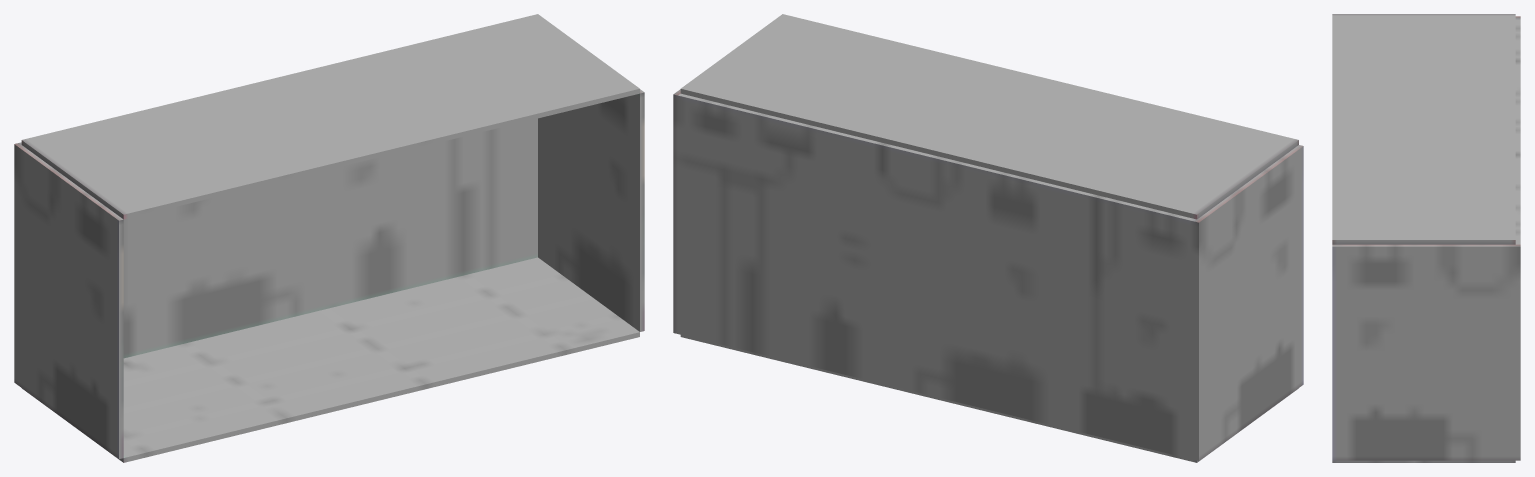
Rendered from BuildingModule_Interior_C_00.fbx.
3 renders of one model, left to right at view 1: azimuth 30°, elevation 25°; view 2: azimuth 150°, elevation 25°; view 3: azimuth 270°, elevation 25°, orthographic. The views are drawn at different scales.
Parts seen in each view (by area): view 1: BuildingModule_Interior_C_00; view 2: BuildingModule_Interior_C_00; view 3: BuildingModule_Interior_C_00.
Part boxes in pixels (bbox=[...]): BuildingModule_Interior_C_00: bbox=[14, 14, 644, 462]; BuildingModule_Interior_C_00: bbox=[673, 14, 1303, 462]; BuildingModule_Interior_C_00: bbox=[1332, 14, 1520, 462].
Size of the model in its own units: 565 by 255 by 195.
